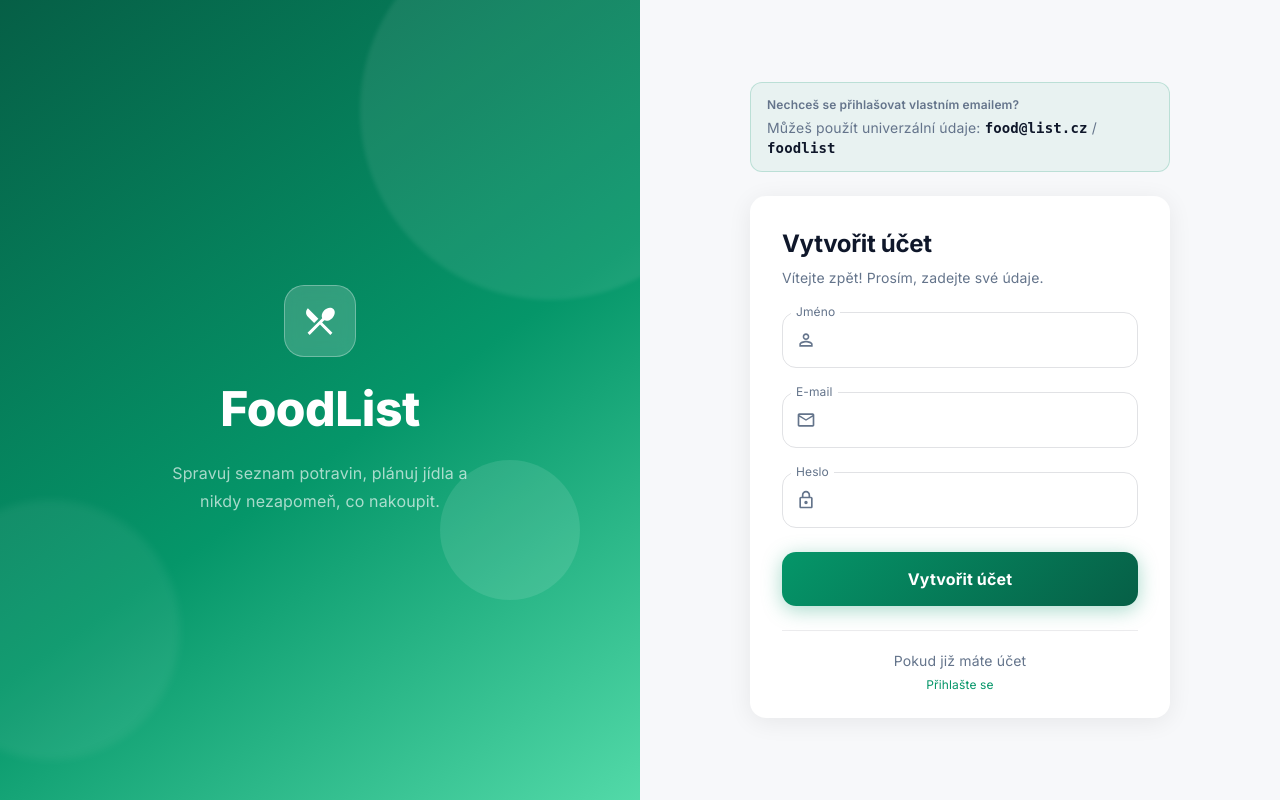
Test: AuthForm – Registrace › should show server error when password is shorter than 6 characters
Vyplníme formulář, heslo má méně než 6 znaků
Type "Test User" into the field labelled "Jméno".
click(982, 340); type("Test User")  # box [826,312,1138,368]
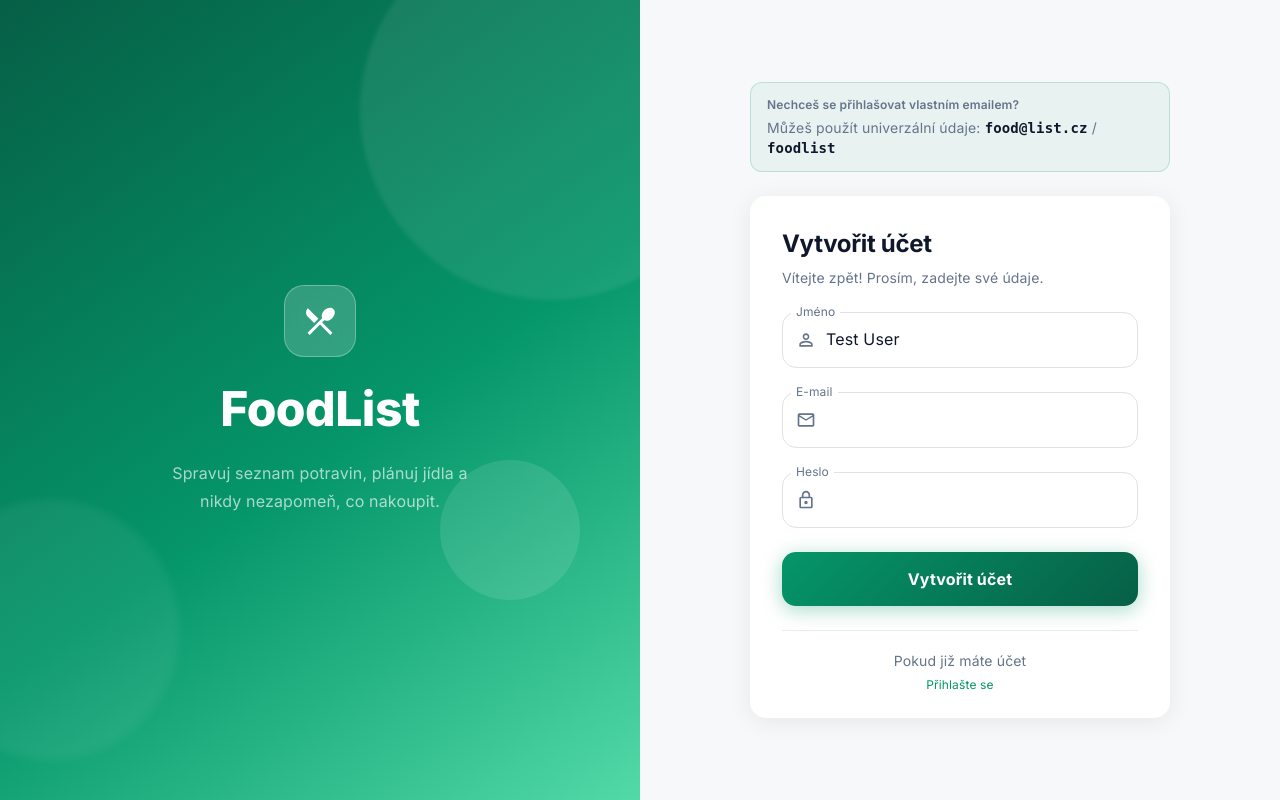
Type "test@example.com" into the field labelled "E-mail".
click(982, 420); type("test@example.com")  # box [826,392,1138,448]
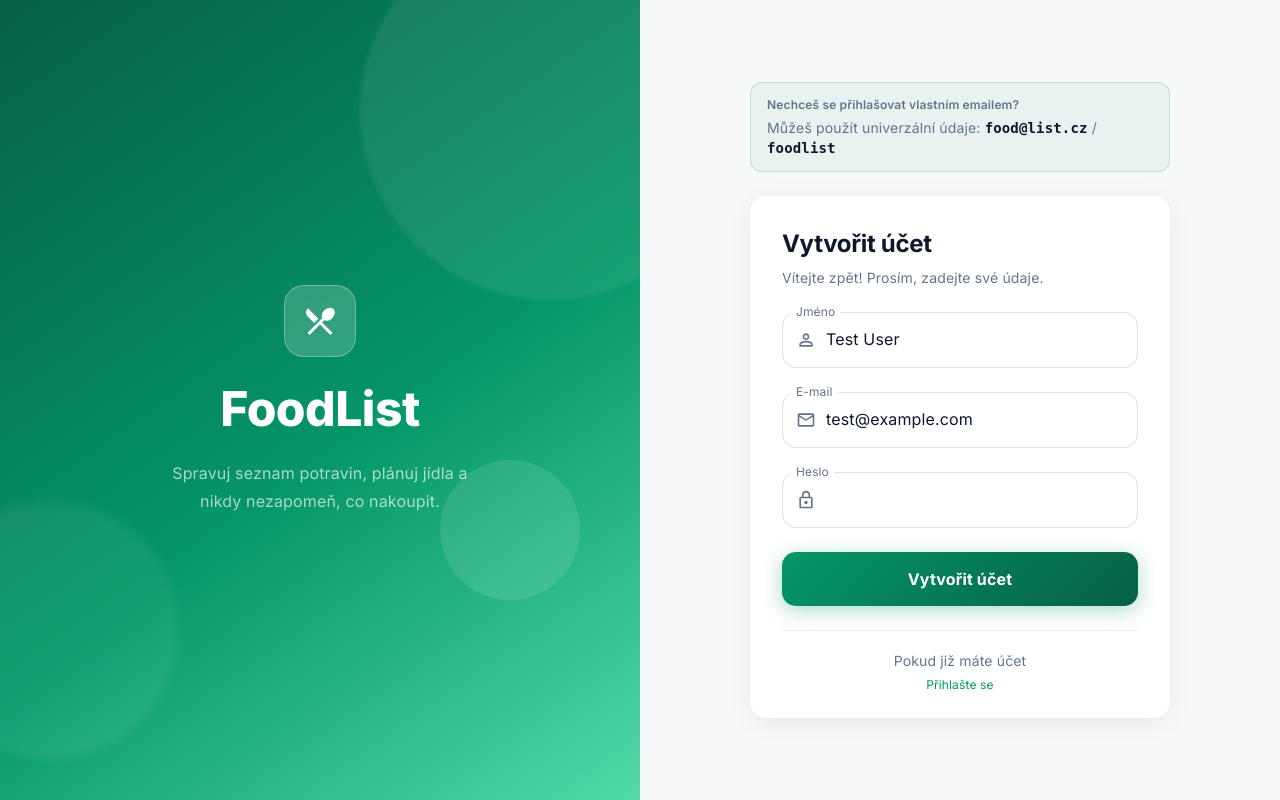
Type "12345" into the password field labelled "Heslo".
click(982, 500); type("12345")  # box [826,472,1138,528]
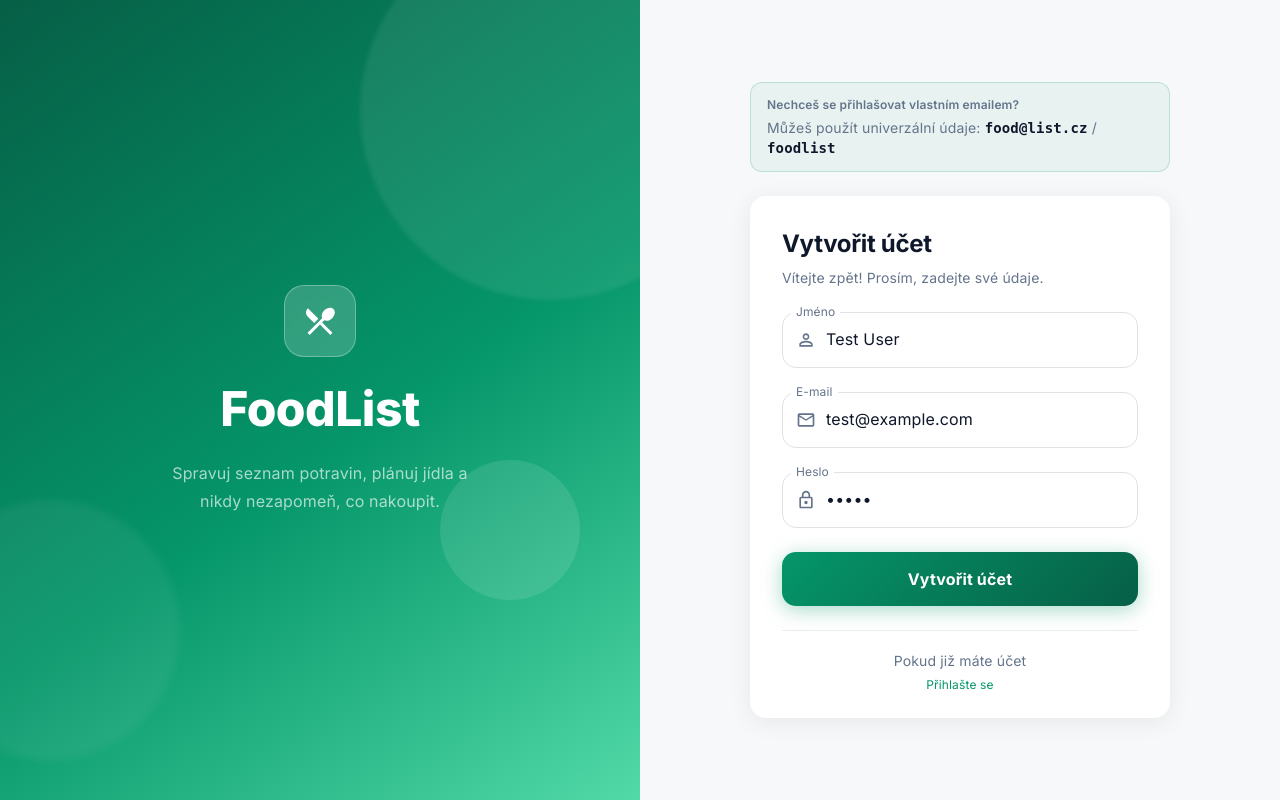
Click the button "Vytvořit účet".
click(960, 579)  # box [782,552,1138,606]
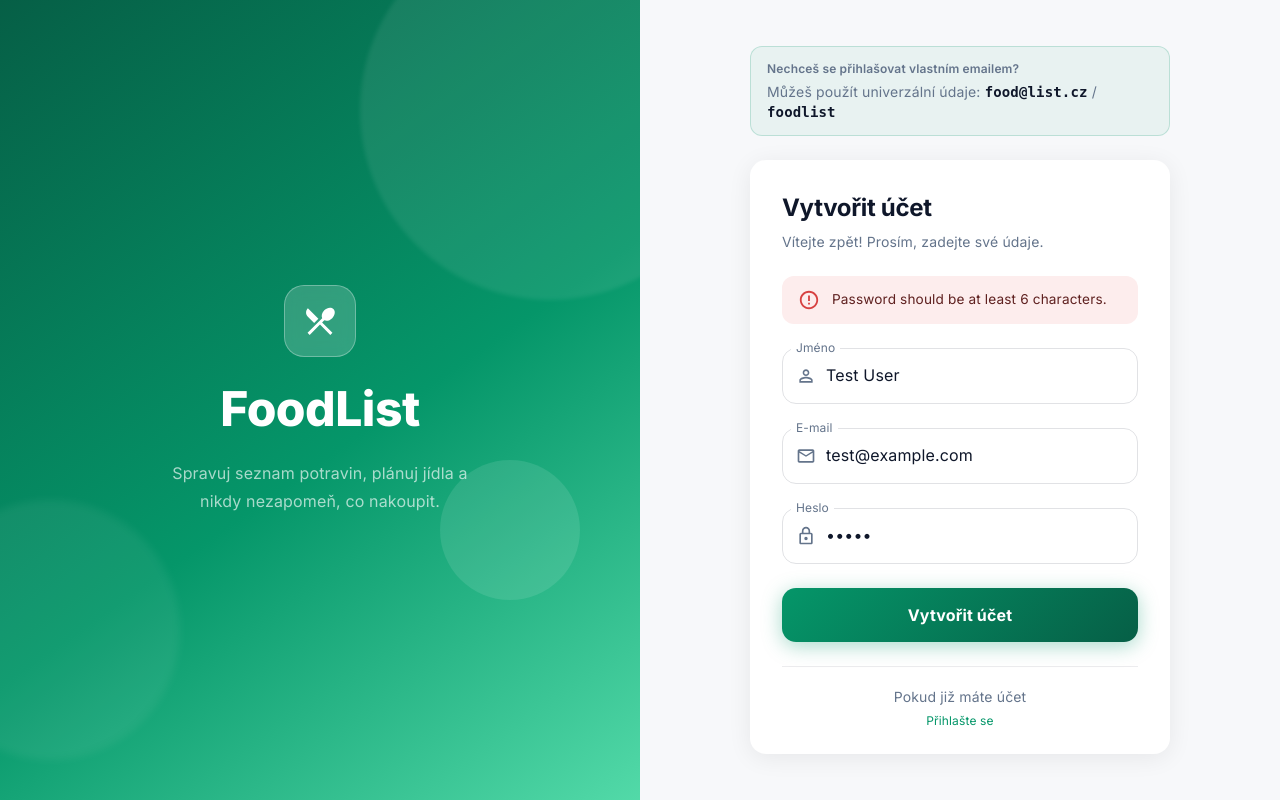
Expected: the message "Password should be at least 6 characters." is shown, [782,276,1138,324]
